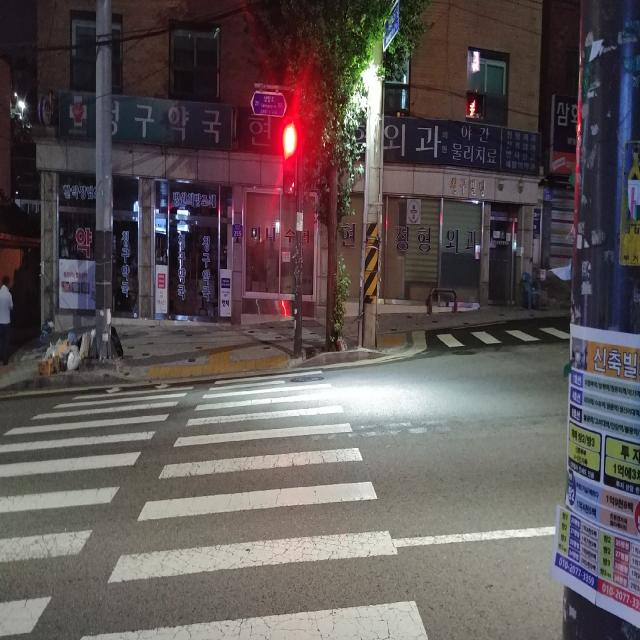빨간불: (282, 122, 298, 196)
횡단보도: (1, 369, 428, 640)
